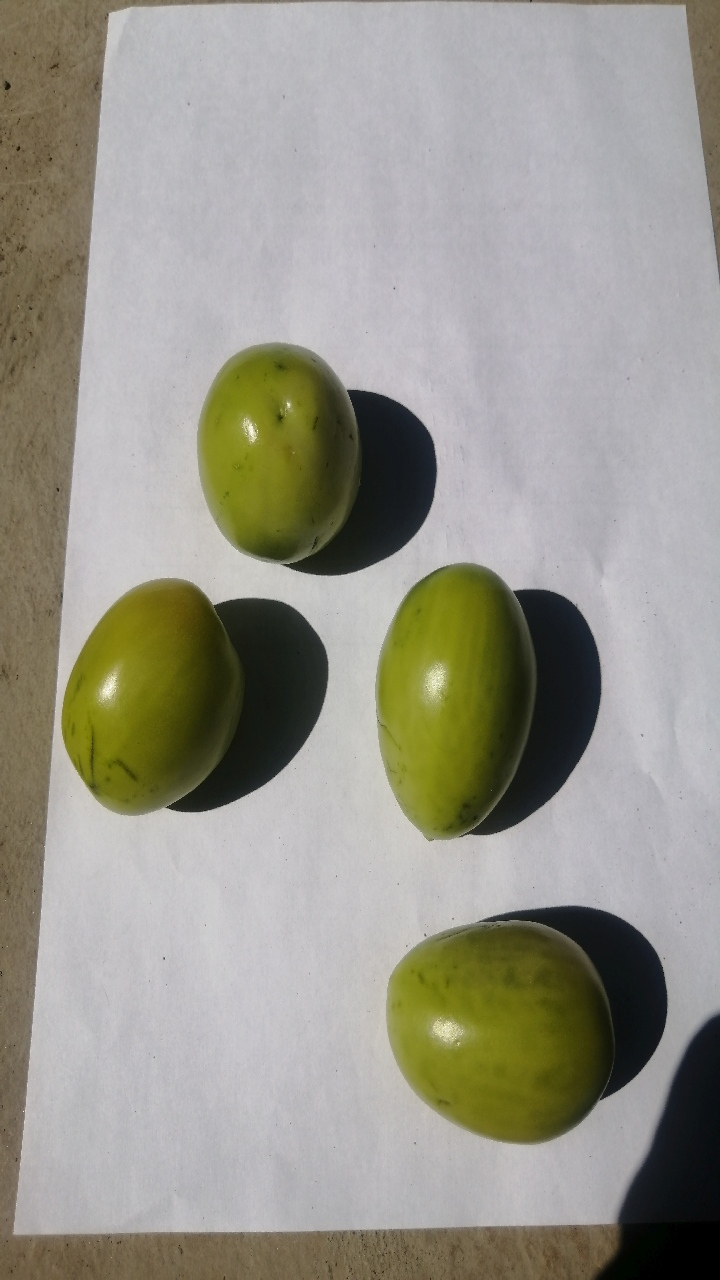tomateVerde: (351, 897, 628, 1168), (34, 555, 249, 822), (364, 551, 546, 852), (189, 319, 383, 574)
